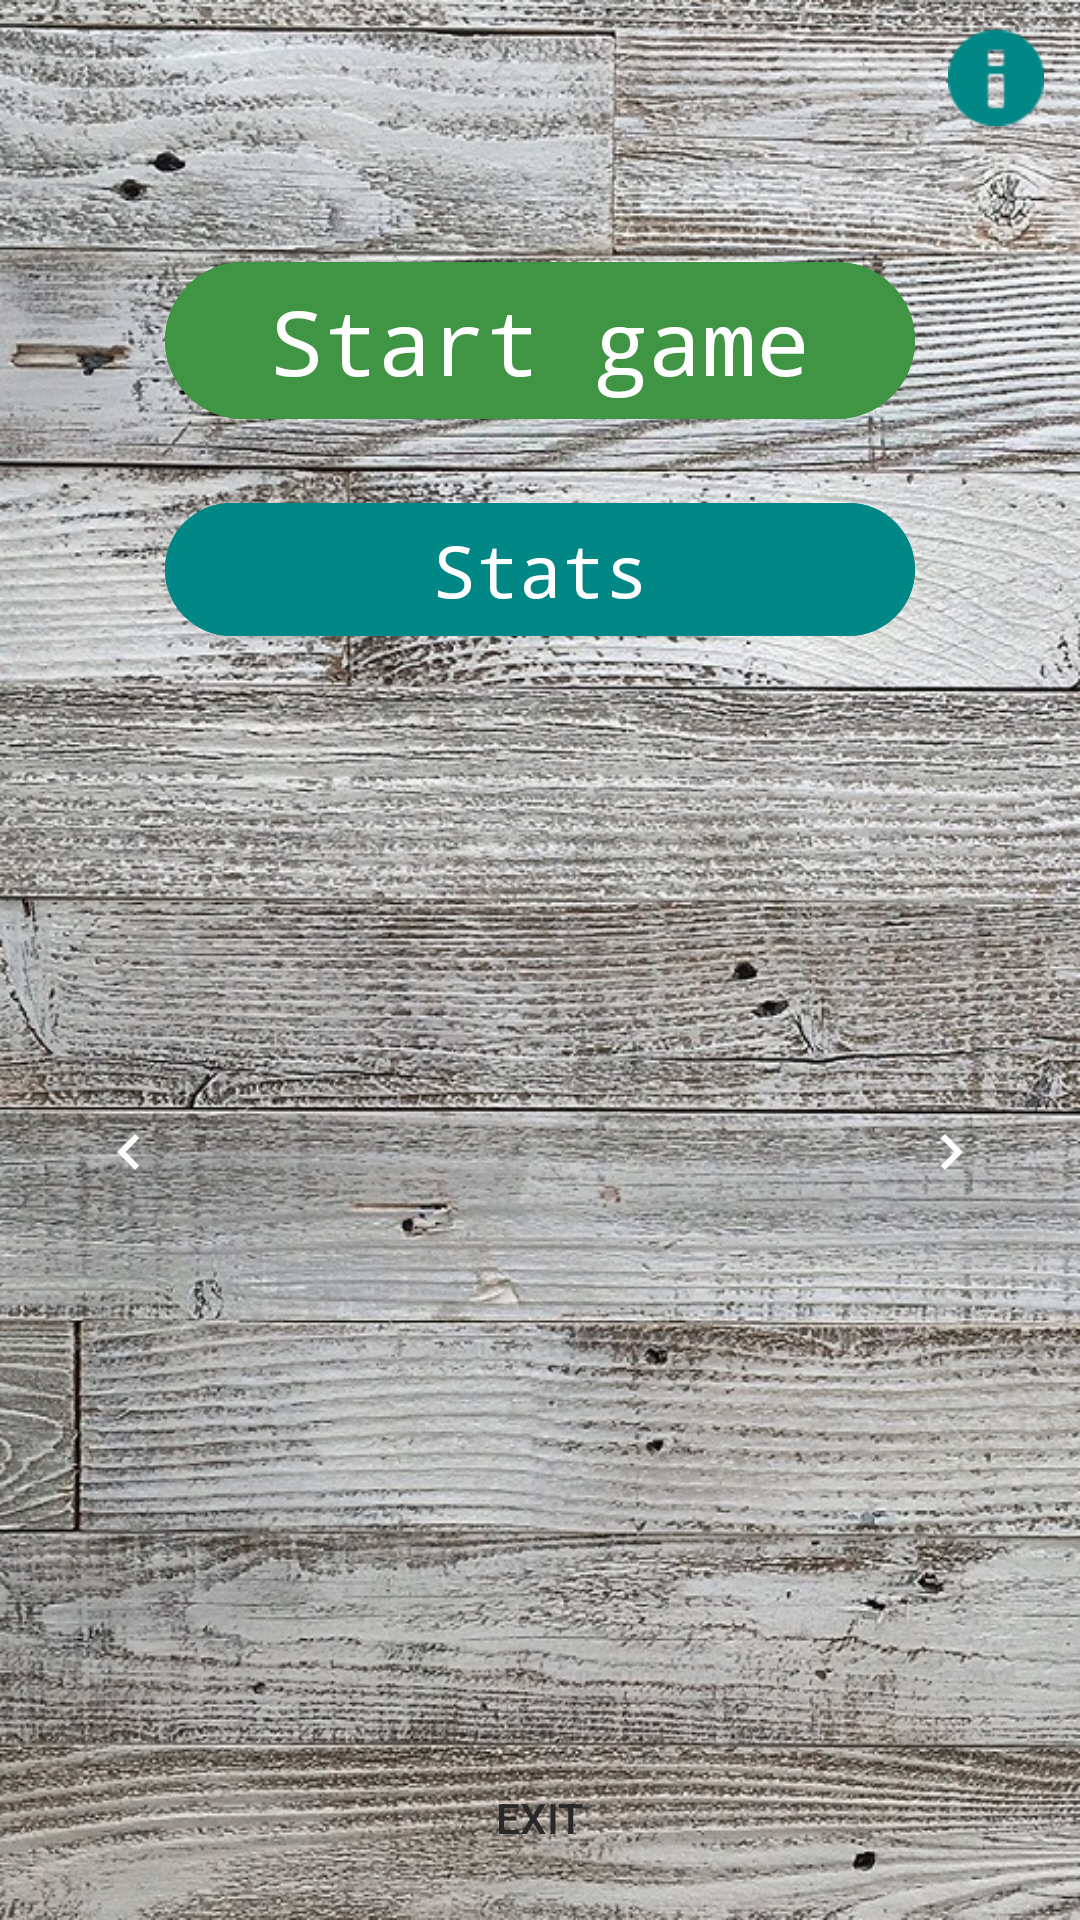

Where to tap for icons on this 1080 x 1920 app screen, as point (x, y):
info: point (996, 78)
